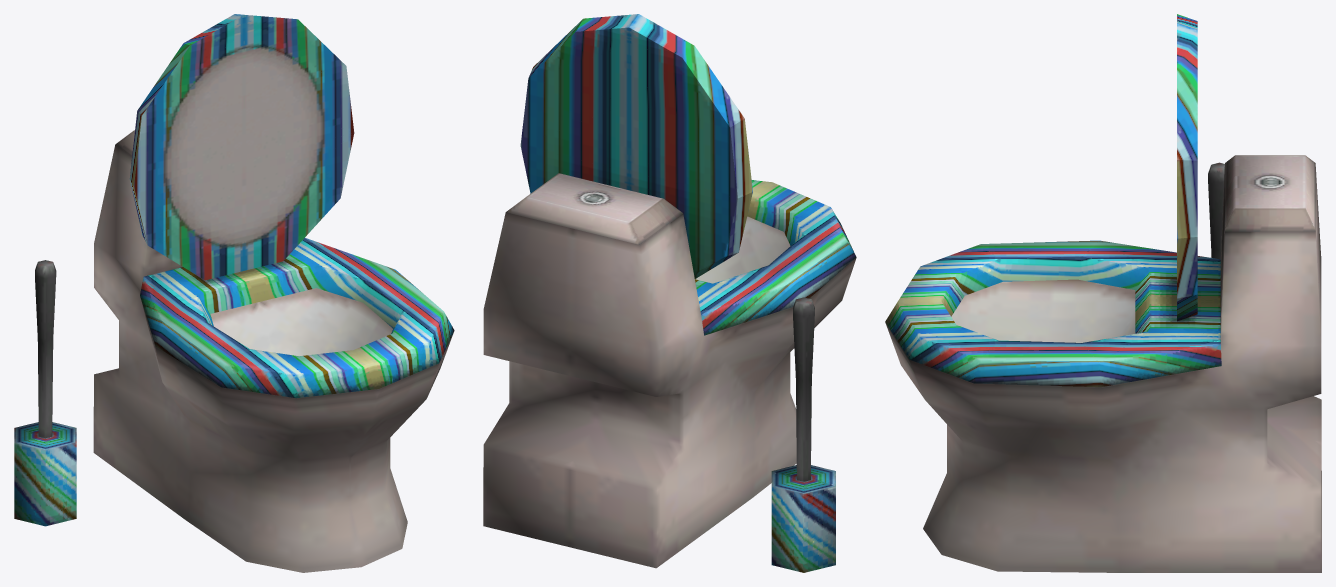
The model's file is furni_0200624_03.FBX.
3 views of the same model, side by side, from view 1: azimuth 30°, elevation 25°; view 2: azimuth 150°, elevation 25°; view 3: azimuth 270°, elevation 25° (orthographic). The views are drawn at different scales.
Parts seen in each view (by area): view 1: furni_0200624_03; view 2: furni_0200624_03; view 3: furni_0200624_03.
Boxes of the visible parts, left/top/right/bottom form: furni_0200624_03: left=14, top=14, right=454, bottom=572; furni_0200624_03: left=483, top=14, right=856, bottom=572; furni_0200624_03: left=885, top=14, right=1321, bottom=572.
Size of the model in its own units: 78.06 by 104 by 81.64.
Materials: 1 (1 with a texture image).
